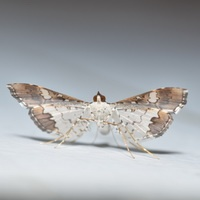insect: (7, 83, 187, 158)
